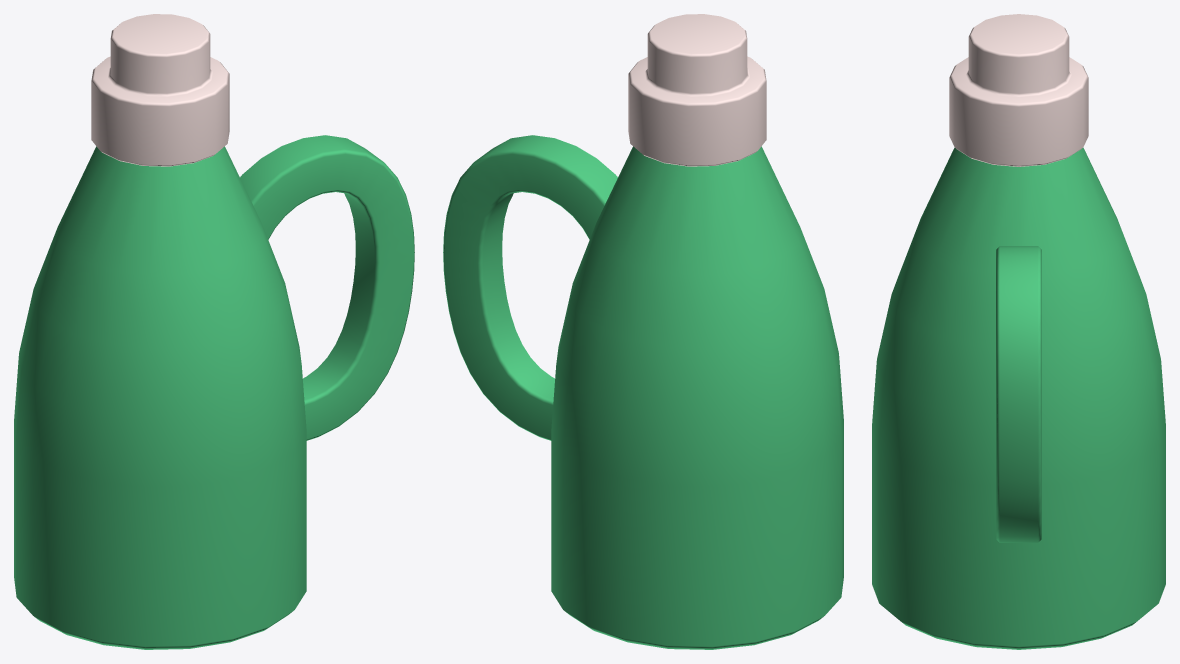
Rendered from Public_13_Bottle_2.glb.
3 renders of one model, left to right at view 1: azimuth 30°, elevation 25°; view 2: azimuth 150°, elevation 25°; view 3: azimuth 270°, elevation 25°, orthographic.
Visible parts, largest first — view 1: Public_13_Bottle_2; view 2: Public_13_Bottle_2; view 3: Public_13_Bottle_2.
Boxes of the visible parts, <box> form: Public_13_Bottle_2: <box>14,14,414,649</box>; Public_13_Bottle_2: <box>443,14,843,649</box>; Public_13_Bottle_2: <box>872,14,1165,649</box>.
Size of the model in its own units: 0.4658 by 0.6664 by 0.3188.
Materials: 1 (1 with a texture image).
